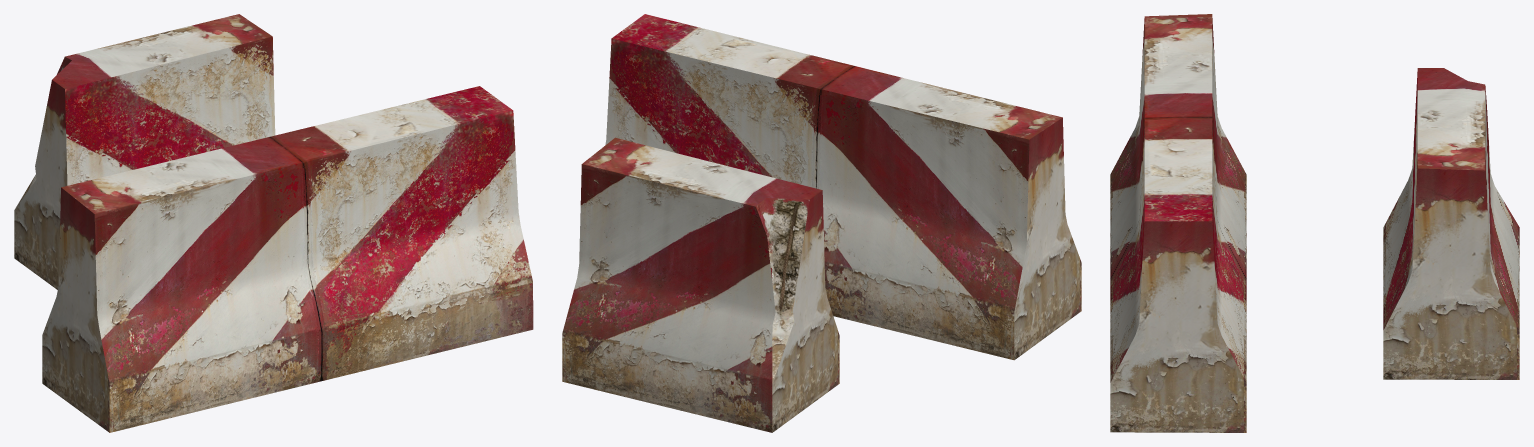
File: lowpoly_concrete_barrier.glb
3 views of the same model, side by side, from view 1: azimuth 30°, elevation 25°; view 2: azimuth 150°, elevation 25°; view 3: azimuth 270°, elevation 25° (orthographic).
Parts seen in each view (by area): view 1: roadblock1_roadblock1_0, roadblock2_roadblock1_0; view 2: roadblock1_roadblock1_0, roadblock2_roadblock1_0; view 3: roadblock1_roadblock1_0, roadblock2_roadblock1_0.
Part boxes in pixels (x1,y1,x2,y2): roadblock1_roadblock1_0: (42, 86, 533, 432); roadblock2_roadblock1_0: (14, 14, 275, 289); roadblock1_roadblock1_0: (605, 14, 1081, 360); roadblock2_roadblock1_0: (562, 137, 839, 432); roadblock1_roadblock1_0: (1110, 14, 1246, 432); roadblock2_roadblock1_0: (1383, 68, 1519, 379).
Bounding box in the file's own units: 182 × 85.28 × 150.
Materials: 2 (2 with a texture image).
